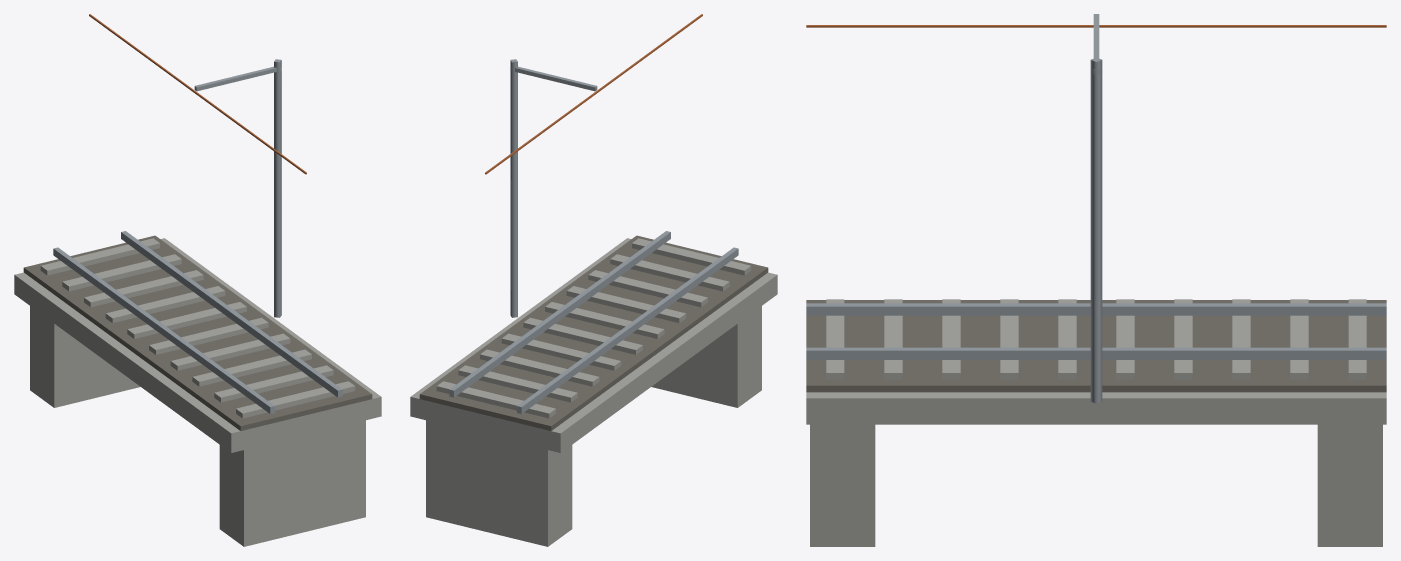
Rendered from road_rail_viii_bridge_lod1.glb.
3 renders of one model, left to right at view 1: azimuth 30°, elevation 25°; view 2: azimuth 150°, elevation 25°; view 3: azimuth 270°, elevation 25°, orthographic. The views are drawn at different scales.
Parts seen in each view (by area): view 1: body; view 2: body; view 3: body.
Boxes of the visible parts, x1=… form: body: x1=14, y1=14, x2=381, y2=546; body: x1=410, y1=14, x2=777, y2=546; body: x1=806, y1=14, x2=1386, y2=546.
Size of the model in its own units: 3.38 by 7.6 by 8.
